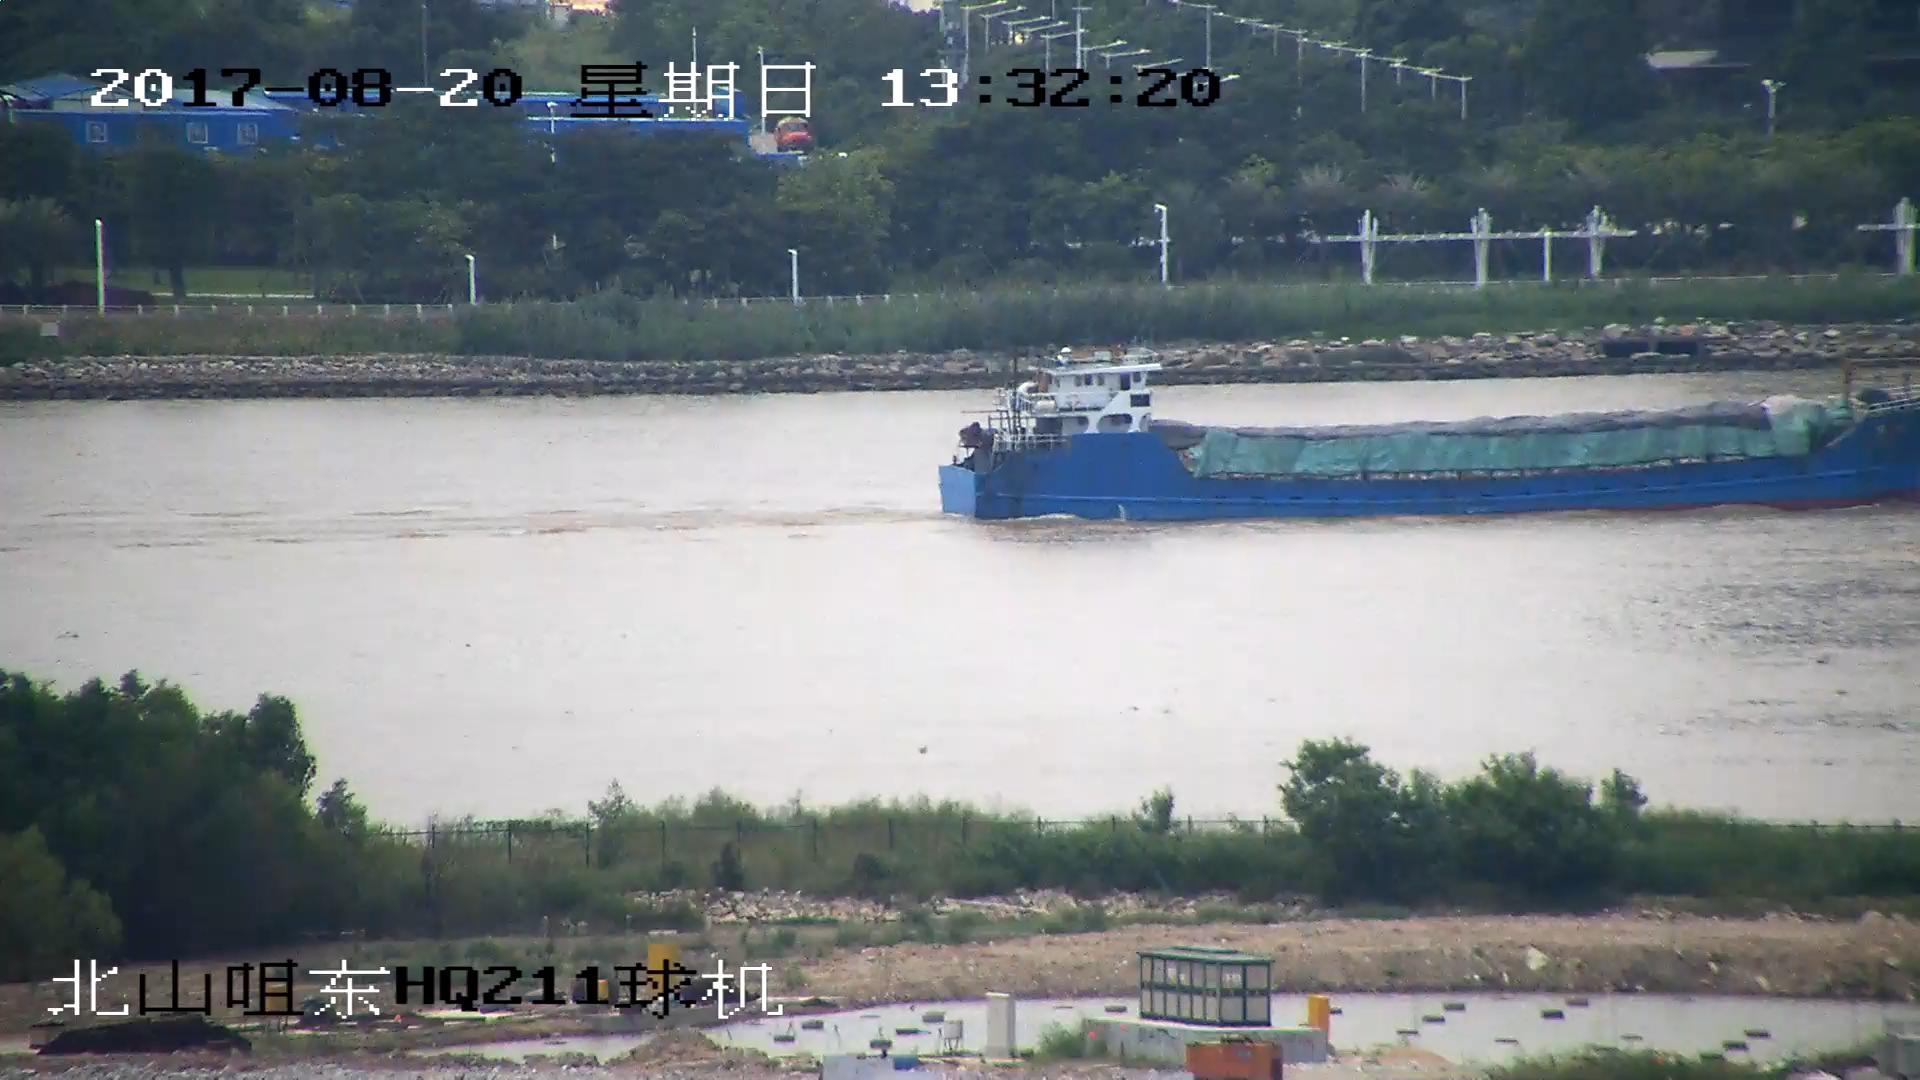general cargo ship: (939, 356, 1920, 520)
